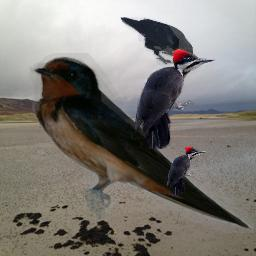Crow: (120, 17, 193, 67)
Swallow: (28, 53, 254, 233)
Woodpecker: (131, 48, 217, 149), (165, 146, 207, 195)
